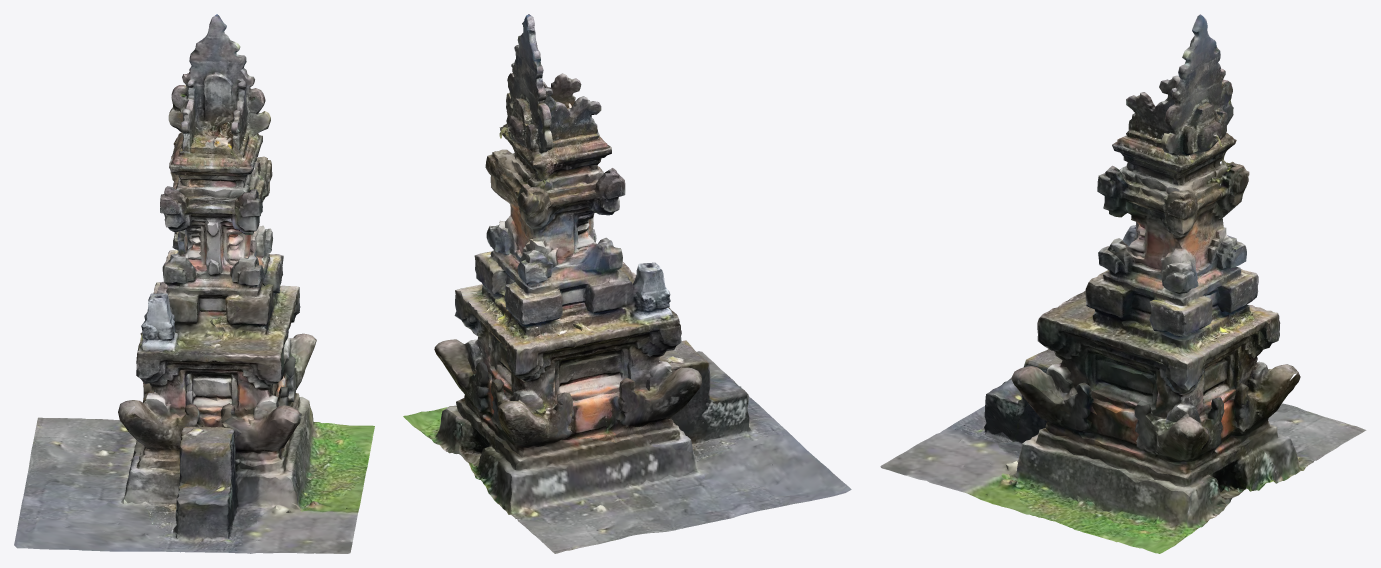
File: artefak_pelinggih_surya_bali.glb
The picture shows the model from 3 angles, left to right: view 1: azimuth 30°, elevation 25°; view 2: azimuth 150°, elevation 25°; view 3: azimuth 270°, elevation 25°; orthographic projection. The views are drawn at different scales.
Visible parts, largest first — view 1: Object_4; view 2: Object_4; view 3: Object_4.
Part boxes in pixels (x1,y1,x2,y2): Object_4: (14, 14, 374, 553); Object_4: (403, 14, 851, 553); Object_4: (880, 14, 1366, 553).
Size of the model in its own units: 2.8 by 2.96 by 2.77.
1 material, 1 textured.
